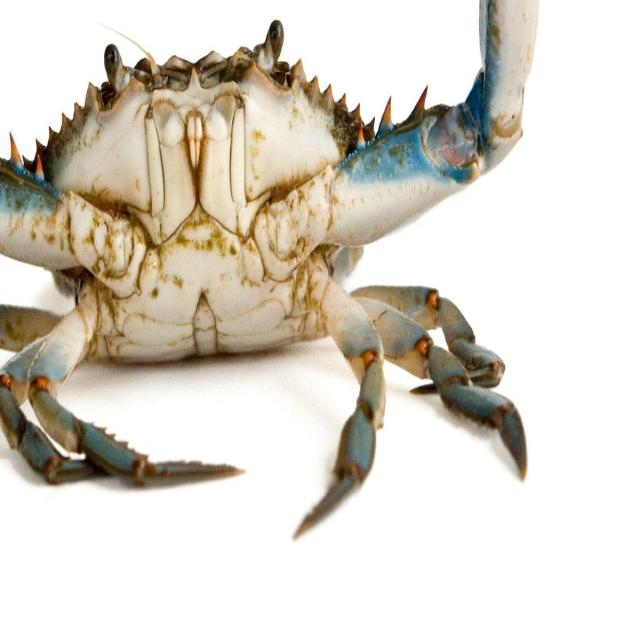crab: (74, 39, 363, 400)
